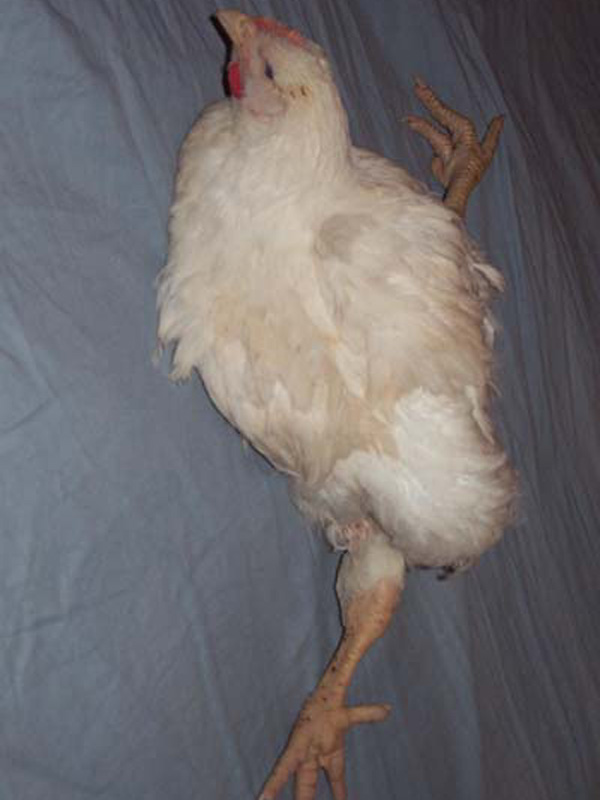Unhealthy: (116, 8, 529, 790)
